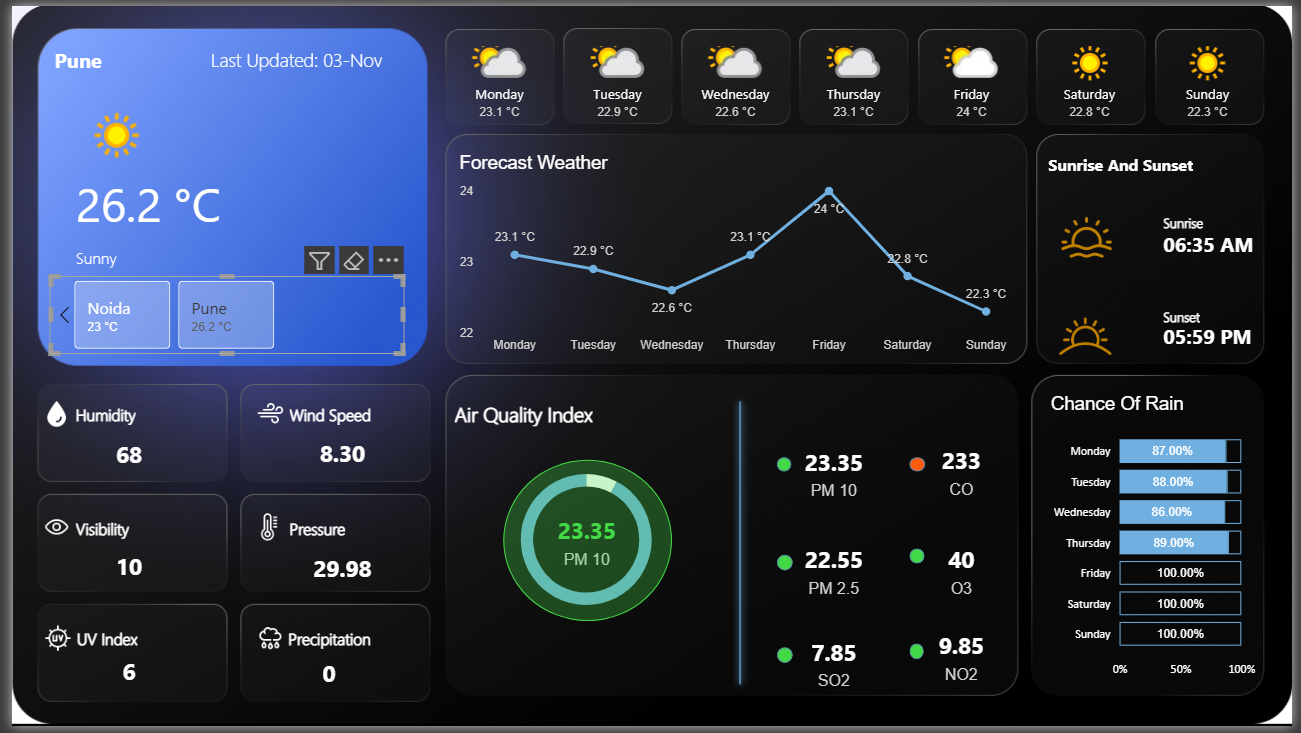

The page's visual inventory and layout, read from the dashboard file:
{"tool":"powerbi","page":{"name":"Page 1","canvas":[1280,720],"ordinal":0},"visuals":[{"type":"advancedSlicerVisual","fields":{"Values":["Location.location.name"]},"box":[37.4,270.2,354.7,78.4],"z":0},{"type":"shape","box":[63.9,158,150.8,78.4],"z":1000},{"type":"shape","box":[63.9,231.6,194.2,38.6],"z":2000},{"type":"shape","box":[42.2,33.8,119.4,38.6],"z":3000},{"type":"shape","box":[199.1,33.8,193,38.6],"z":4000},{"type":"cardVisual","fields":{"Data":["Min(Current.current.condition.icon)"]},"box":[37.4,72.4,124.3,115.8],"z":5000},{"type":"shape","box":[63.9,388.5,70,38.6],"z":6000},{"type":"shape","box":[63.9,501.9,70,38.6],"z":7000},{"type":"shape","box":[65.1,612.9,70,38.6],"z":8000},{"type":"shape","box":[277.5,388.8,98.8,38.8],"z":9000},{"type":"shape","box":[277.5,501.9,70,38.6],"z":10000},{"type":"shape","box":[276.3,612.9,98.9,38.6],"z":11000},{"type":"image","box":[26.5,388.5,37.4,38.6],"z":12000},{"type":"image","box":[26.5,501.9,37.4,37.4],"z":13000},{"type":"image","box":[240.1,388.5,37.4,37.4],"z":14000},{"type":"image","box":[27.7,614.1,37.4,37.4],"z":15000},{"type":"image","box":[238.9,503.1,37.4,37.4],"z":16000},{"type":"image","box":[240.1,614.1,37.4,37.4],"z":17000},{"type":"card","fields":{"Values":["Sum(Current.current.humidity)"]},"box":[95.3,427.1,44.6,44.6],"z":18000},{"type":"card","fields":{"Values":["Sum(Current.current.vis_km)"]},"box":[95.3,540.5,44.6,44.6],"z":19000},{"type":"card","fields":{"Values":["Sum(Current.current.uv)"]},"box":[95.3,645.4,44.6,44.6],"z":20000},{"type":"card","fields":{"Values":["Sum(Current.current.wind_kph)"]},"box":[295.6,425.9,71.2,44.6],"z":21000},{"type":"card","fields":{"Values":["Sum(Current.current.pressure_in)"]},"box":[295.6,541.7,71.2,44.6],"z":22000},{"type":"card","fields":{"Values":["Sum(Current.current.precip_in)"]},"box":[295.6,646.7,44.6,44.6],"z":23000},{"type":"advancedSlicerVisual","fields":{"Values":["Forecast_Day.Day Name"]},"box":[427.1,33.8,831.2,96.5],"z":24000},{"type":"lineChart","title":"Forecast Weather","fields":{"Category":["Forecast_Day.Day Name"],"Y":["Sum(Forecast_Day.forecast.forecastday.day.avgtemp_c)"]},"box":[442.8,146,568.2,208.7],"z":25000},{"type":"shape","box":[1036.3,138.7,155.6,38.6],"z":26000},{"type":"shape","box":[1150.9,217.2,107.4,38.6],"z":27000},{"type":"shape","box":[1150.9,310.1,107.4,38.6],"z":28000},{"type":"shape","box":[1150.9,197.9,70,38.6],"z":29000},{"type":"shape","box":[1150.9,290.8,70,38.6],"z":30000},{"type":"image","box":[1033.9,284.7,79.6,90.5],"z":31000},{"type":"image","box":[1035.1,201.5,78.4,60.3],"z":32000},{"type":"hundredPercentStackedBarChart","title":"Chance Of Rain","fields":{"Category":["Forecast_Day.Day Name"],"Y":["Sum(Forecast_Day.forecast.forecastday.day.daily_chance_of_rain)","_Measures.Left_value_rain"]},"box":[1033.9,387.3,214.7,293.2],"z":33000},{"type":"card","fields":{"Values":["Sum(Current.current.air_quality.co)"]},"box":[912.9,428.7,74.1,72.6],"z":33001},{"type":"card","fields":{"Values":["Sum(Current.current.air_quality.o3)"]},"box":[912.9,526.9,74.1,72.6],"z":33002},{"type":"card","fields":{"Values":["Sum(Current.current.air_quality.no2)"]},"box":[912.9,613.8,74.1,72.6],"z":33003},{"type":"card","fields":{"Values":["Sum(Current.current.air_quality.pm10)"]},"box":[780.4,430.1,84,72.6],"z":33004},{"type":"card","fields":{"Values":["Sum(Current.current.air_quality.pm2_5)"]},"box":[780.4,526.9,84,72.6],"z":33005},{"type":"card","fields":{"Values":["Sum(Current.current.air_quality.so2)"]},"box":[780.4,619.5,84,72.6],"z":33006},{"type":"shape","box":[764.8,451.4,14.2,14.2],"z":33007},{"type":"shape","box":[897.2,451.4,15.7,14.2],"z":33008},{"type":"shape","box":[897,542.6,15,15],"z":33009},{"type":"shape","box":[897.2,638,14.2,15.7],"z":33010},{"type":"shape","box":[764.8,548.3,15.7,15.7],"z":33011},{"type":"shape","box":[764.8,640.9,15.7,15.7],"z":33012},{"type":"shape","box":[716.2,387.5,23.8,298.8],"z":33013},{"type":"card","fields":{"Values":["Sum(Current.current.air_quality.pm10)"]},"box":[538.8,505,72.5,60],"z":33014},{"type":"donutChart","fields":{"Y":["Sum(Current.current.air_quality.pm10)","_Measures.Left value PM10"]},"box":[487.5,438.8,173.8,190],"z":33015},{"type":"shape","box":[491.2,453.8,168.8,161.2],"z":33016},{"type":"shape","box":[442.5,387.5,177.5,38.8],"z":33017}]}

Visuals, with their boxes in screenshot pixels (x1, y1, x2, y2), scaled from the page's 1280x720 canvas onto the 1301x733 screenshot:
advancedSlicerVisual - Location.location.name: {"x1": 38, "y1": 275, "x2": 399, "y2": 355}
shape: {"x1": 65, "y1": 161, "x2": 218, "y2": 241}
shape: {"x1": 65, "y1": 236, "x2": 262, "y2": 275}
shape: {"x1": 43, "y1": 34, "x2": 164, "y2": 74}
shape: {"x1": 202, "y1": 34, "x2": 399, "y2": 74}
cardVisual - Min(Current.current.condition.icon): {"x1": 38, "y1": 74, "x2": 164, "y2": 192}
shape: {"x1": 65, "y1": 396, "x2": 136, "y2": 435}
shape: {"x1": 65, "y1": 511, "x2": 136, "y2": 550}
shape: {"x1": 66, "y1": 624, "x2": 137, "y2": 663}
shape: {"x1": 282, "y1": 396, "x2": 382, "y2": 435}
shape: {"x1": 282, "y1": 511, "x2": 353, "y2": 550}
shape: {"x1": 281, "y1": 624, "x2": 381, "y2": 663}
image: {"x1": 27, "y1": 396, "x2": 65, "y2": 435}
image: {"x1": 27, "y1": 511, "x2": 65, "y2": 549}
image: {"x1": 244, "y1": 396, "x2": 282, "y2": 434}
image: {"x1": 28, "y1": 625, "x2": 66, "y2": 663}
image: {"x1": 243, "y1": 512, "x2": 281, "y2": 550}
image: {"x1": 244, "y1": 625, "x2": 282, "y2": 663}
card - Sum(Current.current.humidity): {"x1": 97, "y1": 435, "x2": 142, "y2": 480}
card - Sum(Current.current.vis_km): {"x1": 97, "y1": 550, "x2": 142, "y2": 596}
card - Sum(Current.current.uv): {"x1": 97, "y1": 657, "x2": 142, "y2": 702}
card - Sum(Current.current.wind_kph): {"x1": 300, "y1": 434, "x2": 373, "y2": 479}
card - Sum(Current.current.pressure_in): {"x1": 300, "y1": 551, "x2": 373, "y2": 597}
card - Sum(Current.current.precip_in): {"x1": 300, "y1": 658, "x2": 346, "y2": 704}
advancedSlicerVisual - Forecast_Day.Day Name: {"x1": 434, "y1": 34, "x2": 1279, "y2": 133}
"Forecast Weather" lineChart: {"x1": 450, "y1": 149, "x2": 1028, "y2": 361}
shape: {"x1": 1053, "y1": 141, "x2": 1211, "y2": 181}
shape: {"x1": 1170, "y1": 221, "x2": 1279, "y2": 260}
shape: {"x1": 1170, "y1": 316, "x2": 1279, "y2": 355}
shape: {"x1": 1170, "y1": 201, "x2": 1241, "y2": 241}
shape: {"x1": 1170, "y1": 296, "x2": 1241, "y2": 335}
image: {"x1": 1051, "y1": 290, "x2": 1132, "y2": 382}
image: {"x1": 1052, "y1": 205, "x2": 1132, "y2": 267}
"Chance Of Rain" hundredPercentStackedBarChart: {"x1": 1051, "y1": 394, "x2": 1269, "y2": 693}
card - Sum(Current.current.air_quality.co): {"x1": 928, "y1": 436, "x2": 1003, "y2": 510}
card - Sum(Current.current.air_quality.o3): {"x1": 928, "y1": 536, "x2": 1003, "y2": 610}
card - Sum(Current.current.air_quality.no2): {"x1": 928, "y1": 625, "x2": 1003, "y2": 699}
card - Sum(Current.current.air_quality.pm10): {"x1": 793, "y1": 438, "x2": 879, "y2": 512}
card - Sum(Current.current.air_quality.pm2_5): {"x1": 793, "y1": 536, "x2": 879, "y2": 610}
card - Sum(Current.current.air_quality.so2): {"x1": 793, "y1": 631, "x2": 879, "y2": 705}
shape: {"x1": 777, "y1": 460, "x2": 792, "y2": 474}
shape: {"x1": 912, "y1": 460, "x2": 928, "y2": 474}
shape: {"x1": 912, "y1": 552, "x2": 927, "y2": 568}
shape: {"x1": 912, "y1": 650, "x2": 926, "y2": 666}
shape: {"x1": 777, "y1": 558, "x2": 793, "y2": 574}
shape: {"x1": 777, "y1": 652, "x2": 793, "y2": 668}
shape: {"x1": 728, "y1": 394, "x2": 752, "y2": 699}
card - Sum(Current.current.air_quality.pm10): {"x1": 548, "y1": 514, "x2": 621, "y2": 575}
donutChart - Sum(Current.current.air_quality.pm10) x _Measures.Left value PM10: {"x1": 495, "y1": 447, "x2": 672, "y2": 640}
shape: {"x1": 499, "y1": 462, "x2": 671, "y2": 626}
shape: {"x1": 450, "y1": 394, "x2": 630, "y2": 434}
